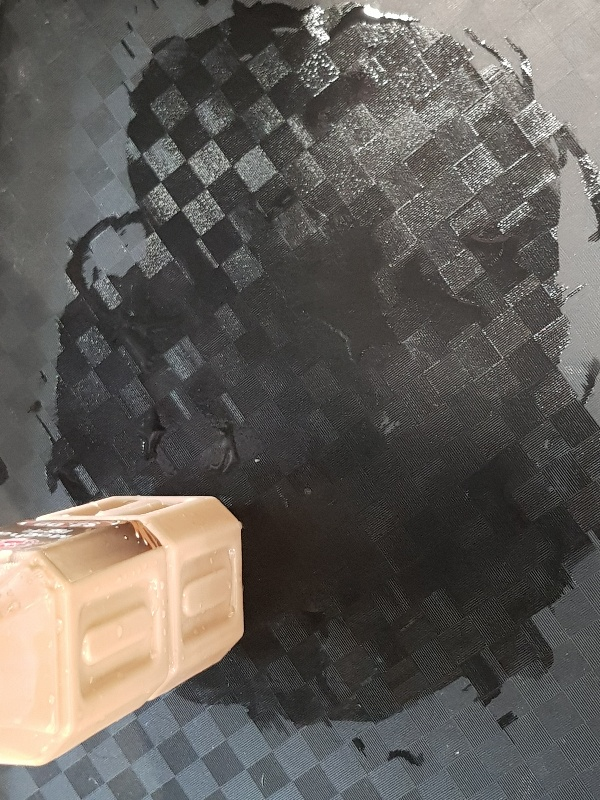Mocha: (2, 494, 243, 770)
